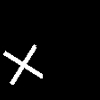single_crochet: (3, 45, 42, 84)
